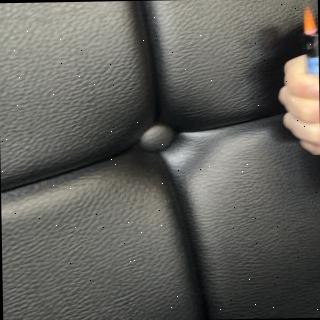fire: (302, 5, 318, 38)
